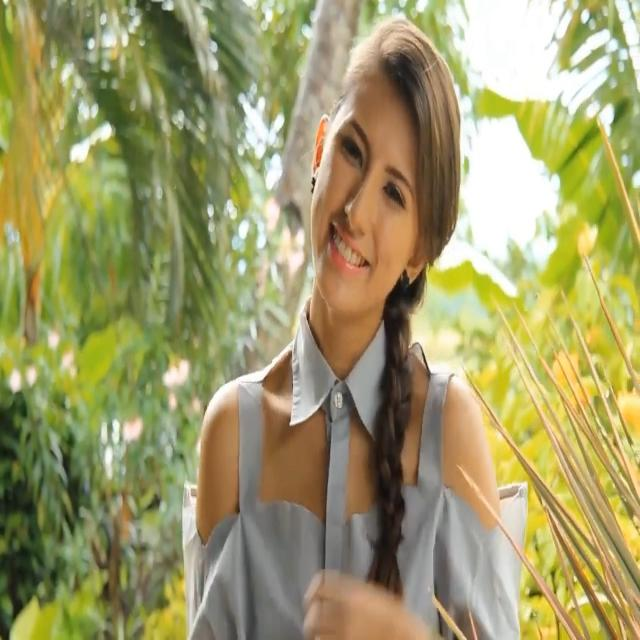Shirt: (182, 294, 528, 640)
